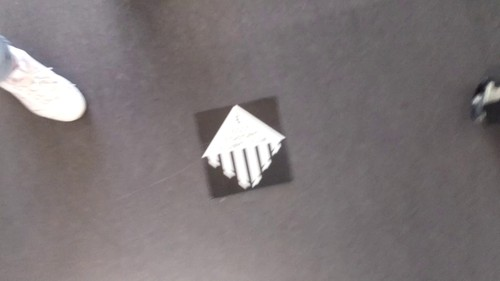misgoods: (201, 109, 297, 187)
